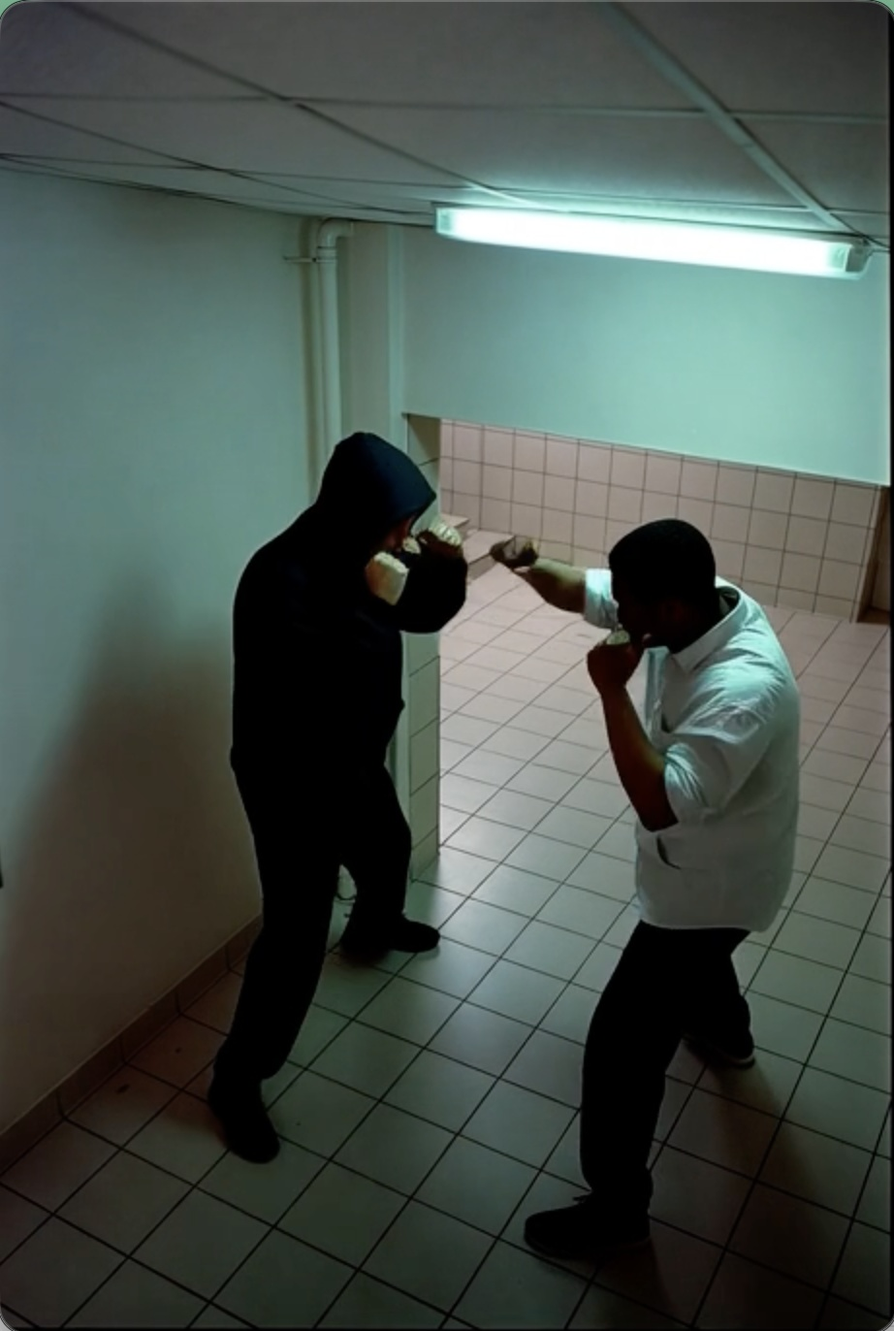Assault: (207, 430, 471, 1167)
Fighting: (486, 514, 805, 1257)
